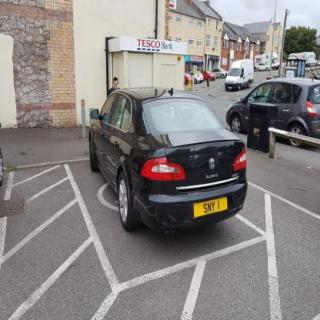Normal_vehicle: (88, 88, 247, 232)
